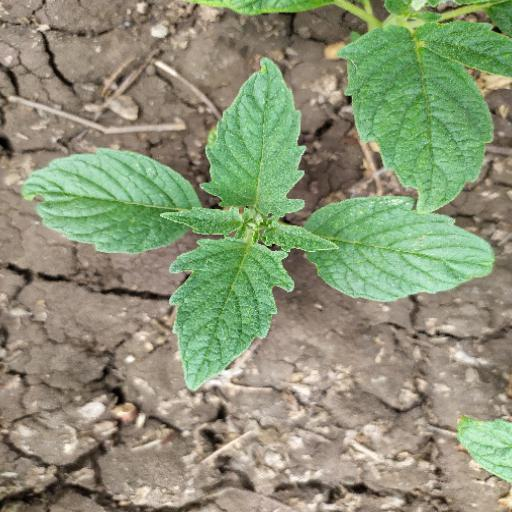crop: (24, 16, 492, 382)
